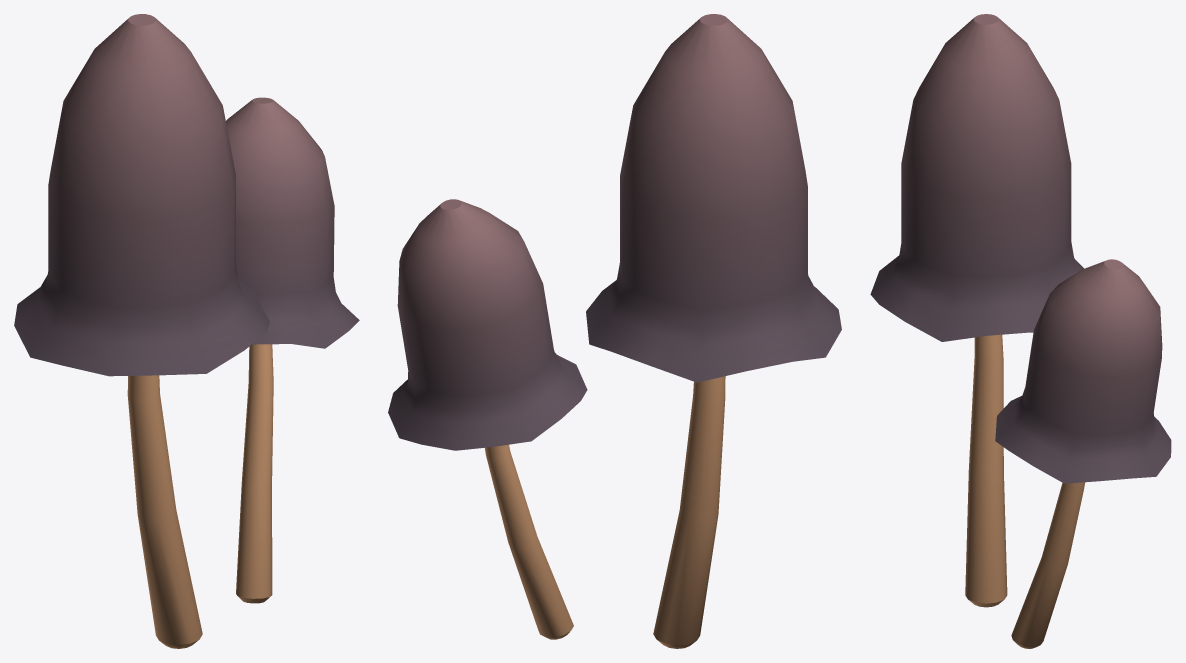
The model's file is Mushoom_07.fbx.
3 renders of one model, left to right at view 1: azimuth 30°, elevation 25°; view 2: azimuth 150°, elevation 25°; view 3: azimuth 270°, elevation 25°, orthographic. The views are drawn at different scales.
Parts seen in each view (by area): view 1: Mushoom_07_LOD0; view 2: Mushoom_07_LOD0; view 3: Mushoom_07_LOD0.
Boxes of the visible parts, left/top/right/bottom form: Mushoom_07_LOD0: left=14, top=14, right=359, bottom=648; Mushoom_07_LOD0: left=388, top=14, right=841, bottom=648; Mushoom_07_LOD0: left=870, top=14, right=1171, bottom=648.
Size of what is drawn, in the model's own units: 0.1236 by 0.2023 by 0.0973.
